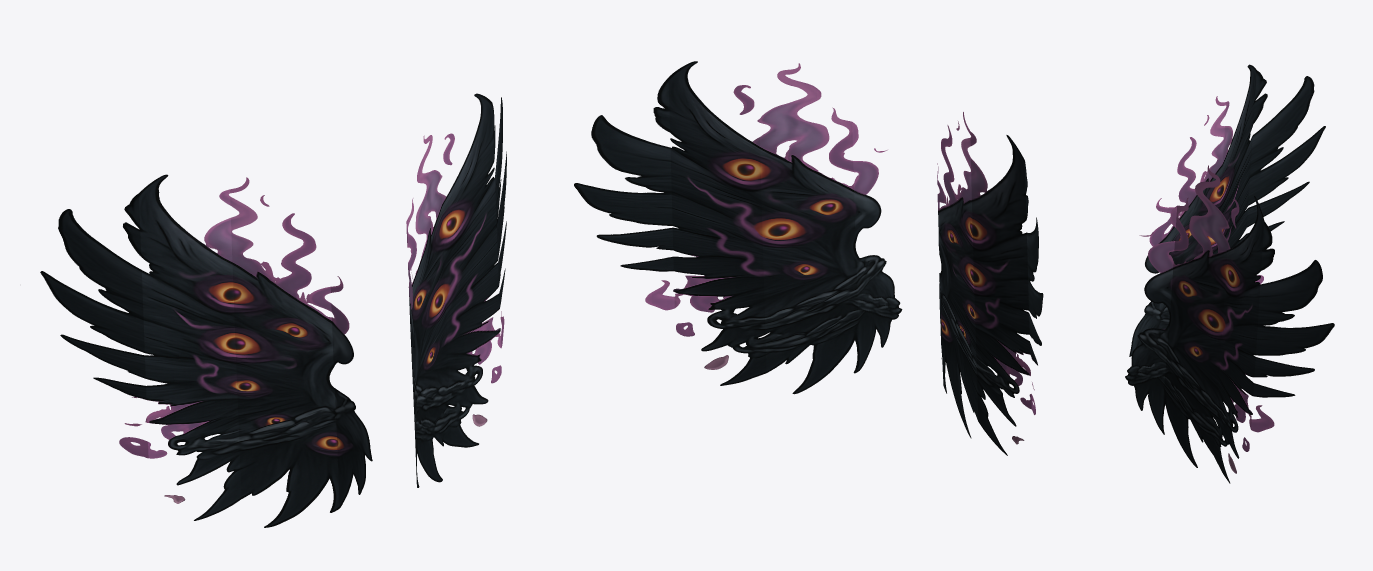
Rendered from canh13.fbx.
The picture shows the model from 3 angles, left to right: view 1: azimuth 30°, elevation 25°; view 2: azimuth 150°, elevation 25°; view 3: azimuth 270°, elevation 25°; orthographic projection. The views are drawn at different scales.
Parts seen in each view (by area): view 1: canh13; view 2: canh13; view 3: canh13.
Boxes of the visible parts, x1,y1,x2,y2 form: canh13: [40, 93, 506, 527]; canh13: [574, 61, 1043, 455]; canh13: [1125, 64, 1334, 483].
Size of the model in its own units: 1.51 by 1.16 by 0.8397.
